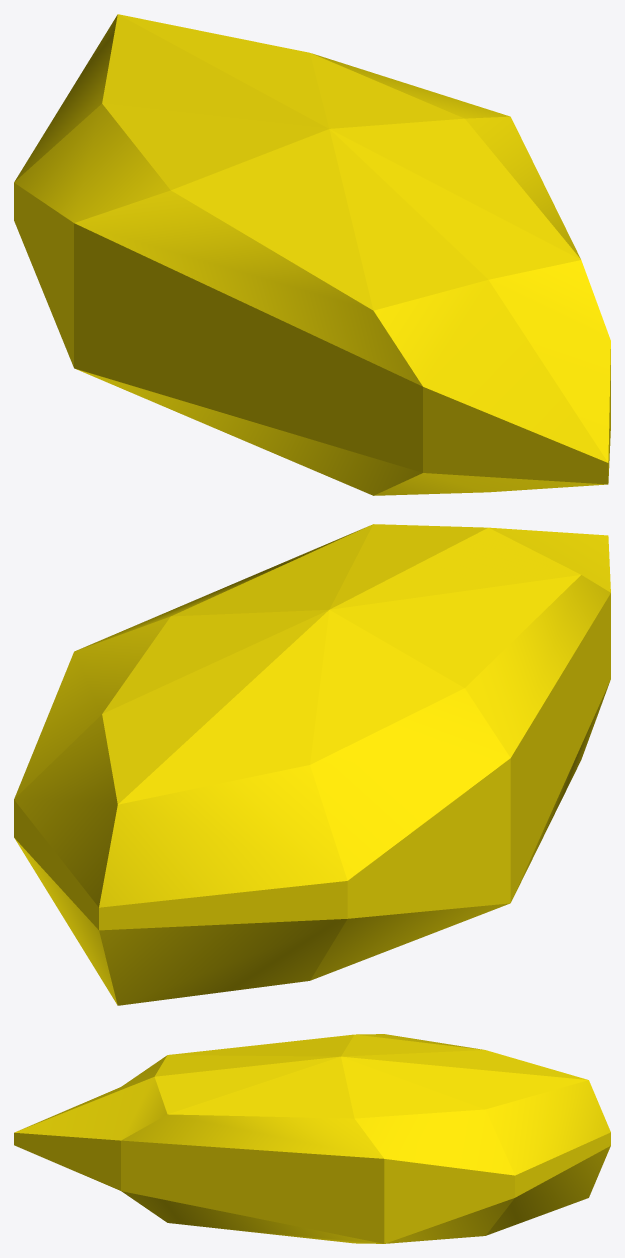
Rendered from Bullet.fbx.
The picture shows the model from 3 angles, top to bottom: view 1: azimuth 30°, elevation 25°; view 2: azimuth 150°, elevation 25°; view 3: azimuth 270°, elevation 25°; orthographic projection. The views are drawn at different scales.
Visible parts, largest first — view 1: pSphere1; view 2: pSphere1; view 3: pSphere1.
Boxes of the visible parts, x1=… form: pSphere1: x1=14, y1=14, x2=610, y2=495; pSphere1: x1=14, y1=524, x2=610, y2=1005; pSphere1: x1=14, y1=1034, x2=610, y2=1243.
Size of the model in its own units: 1.75 by 1.07 by 3.53.
